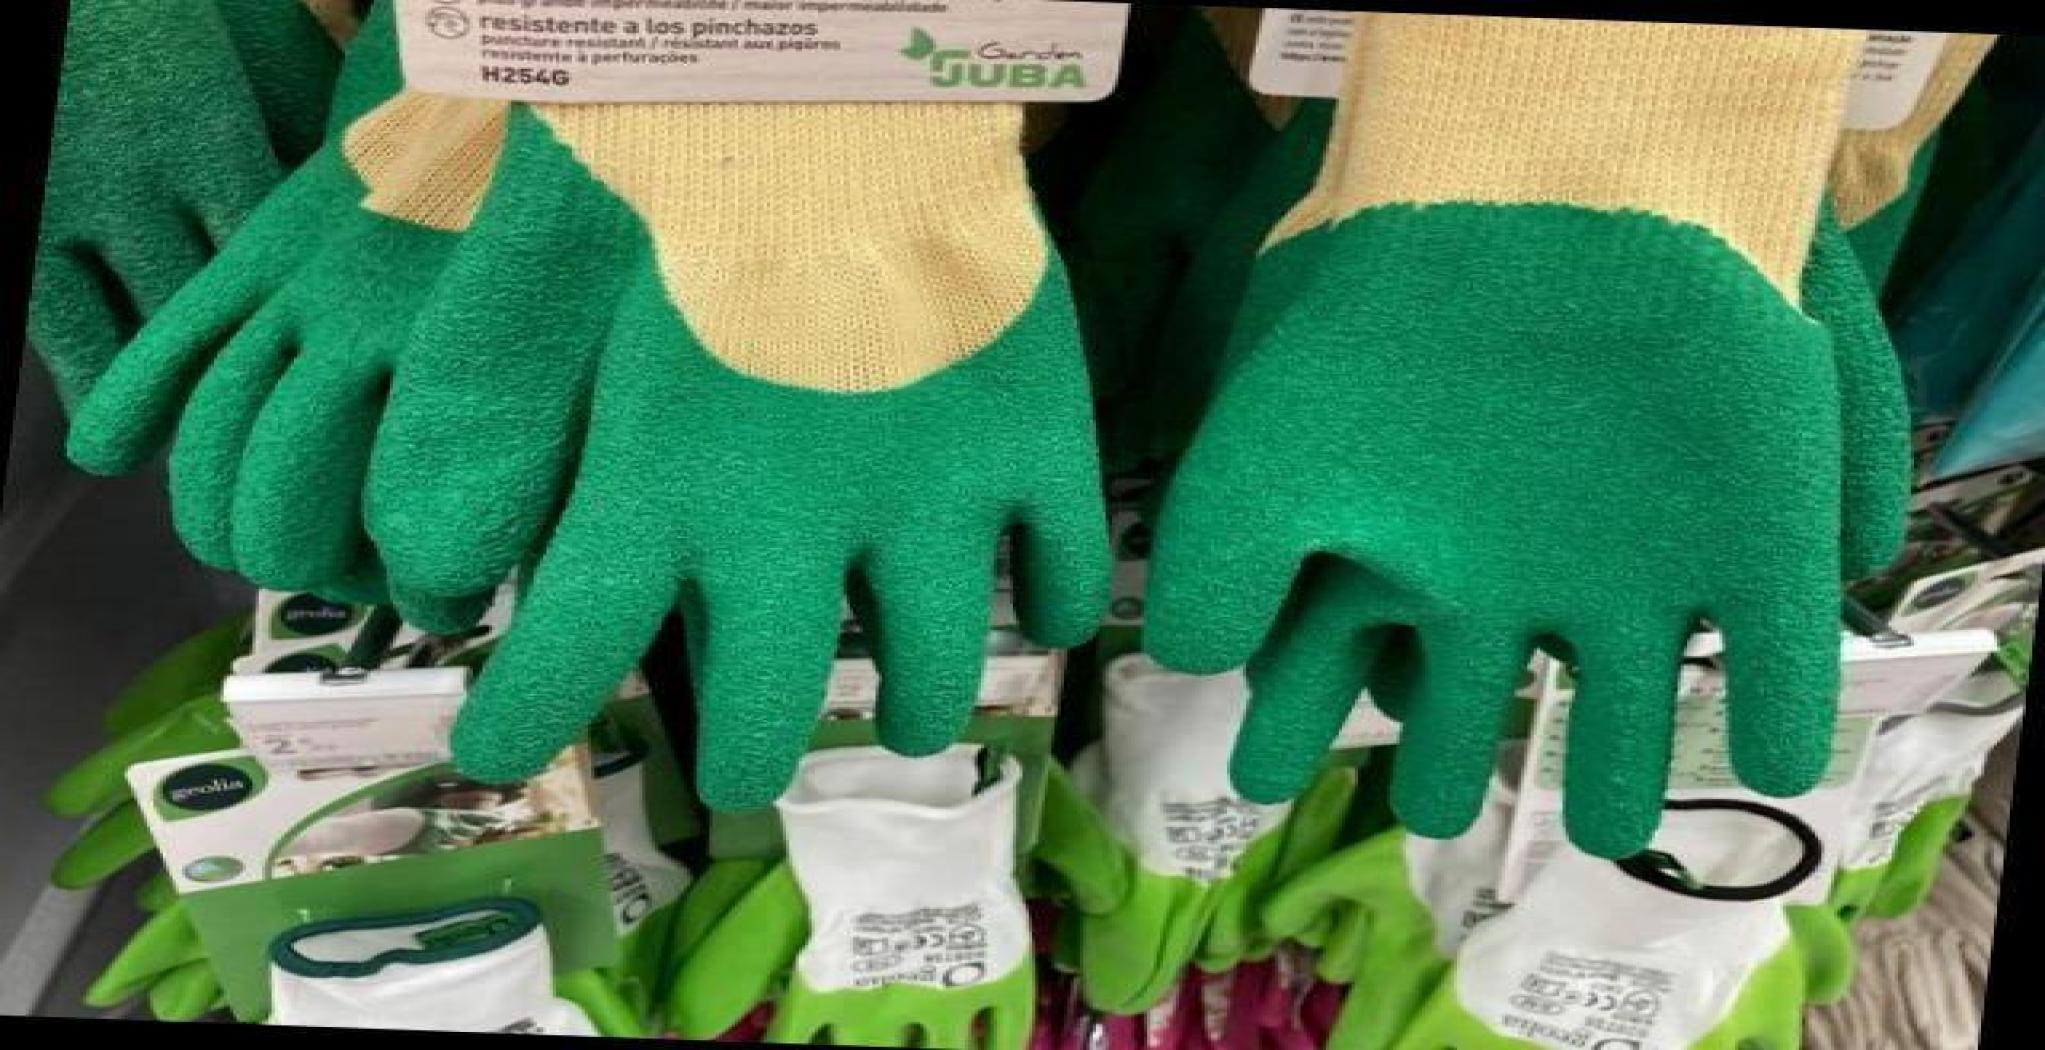gloved: (333, 20, 1161, 833), (1279, 28, 1941, 828)
